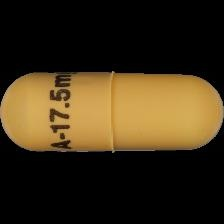0145-3817: (0, 0, 224, 224)
